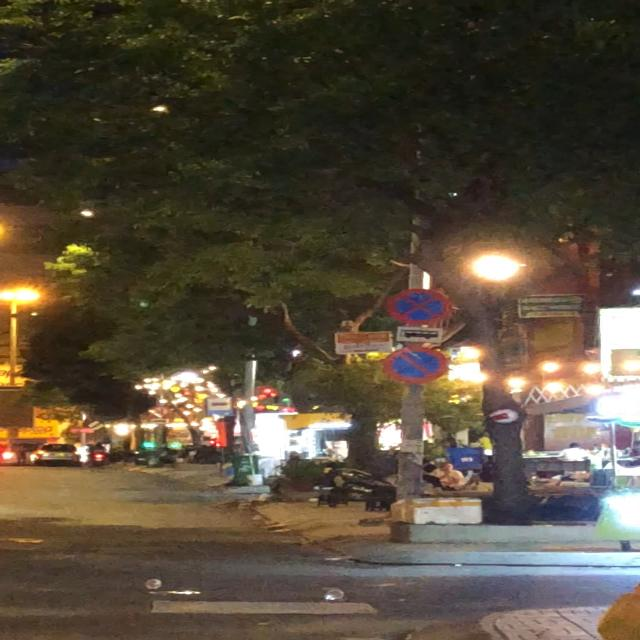Bien bao cam do xe: (380, 346, 450, 386)
Bien bao cam dung xe va do xe: (384, 289, 454, 325)
